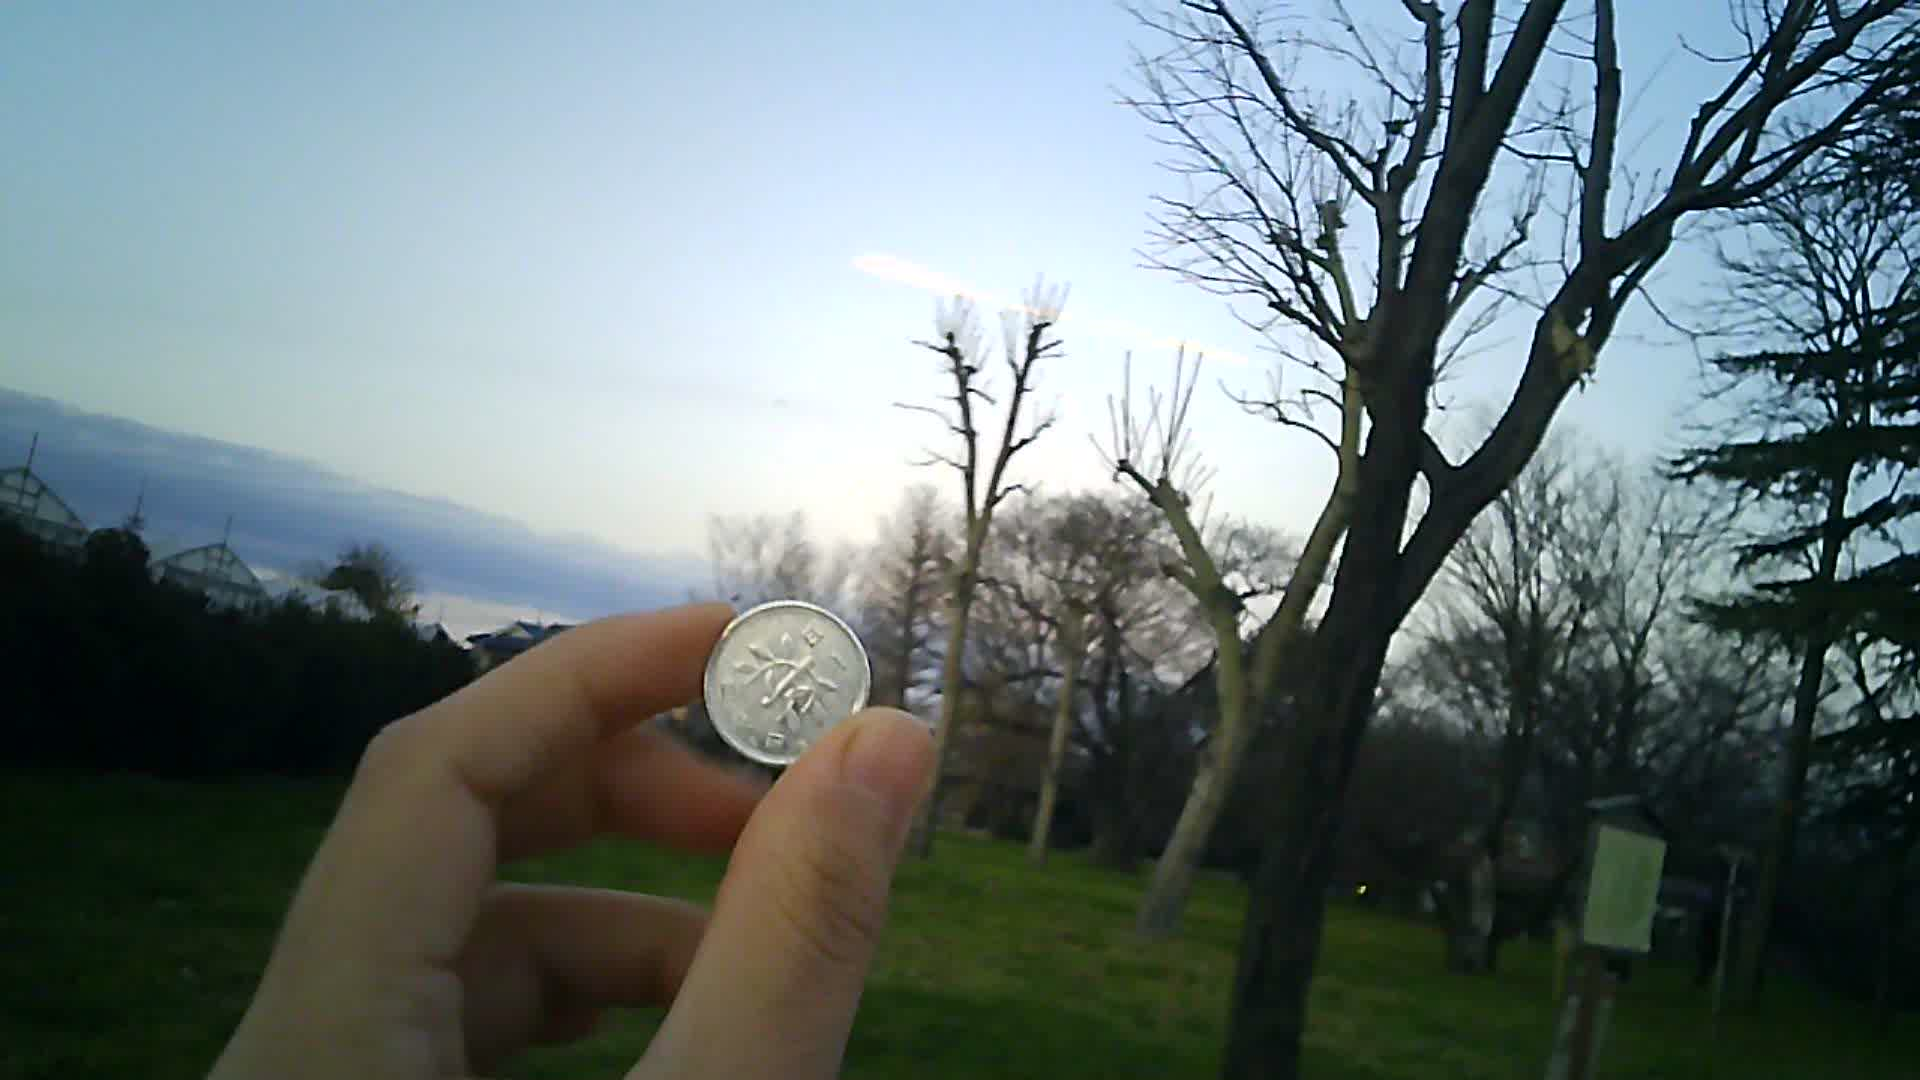1 Yen: (691, 604, 885, 774)
